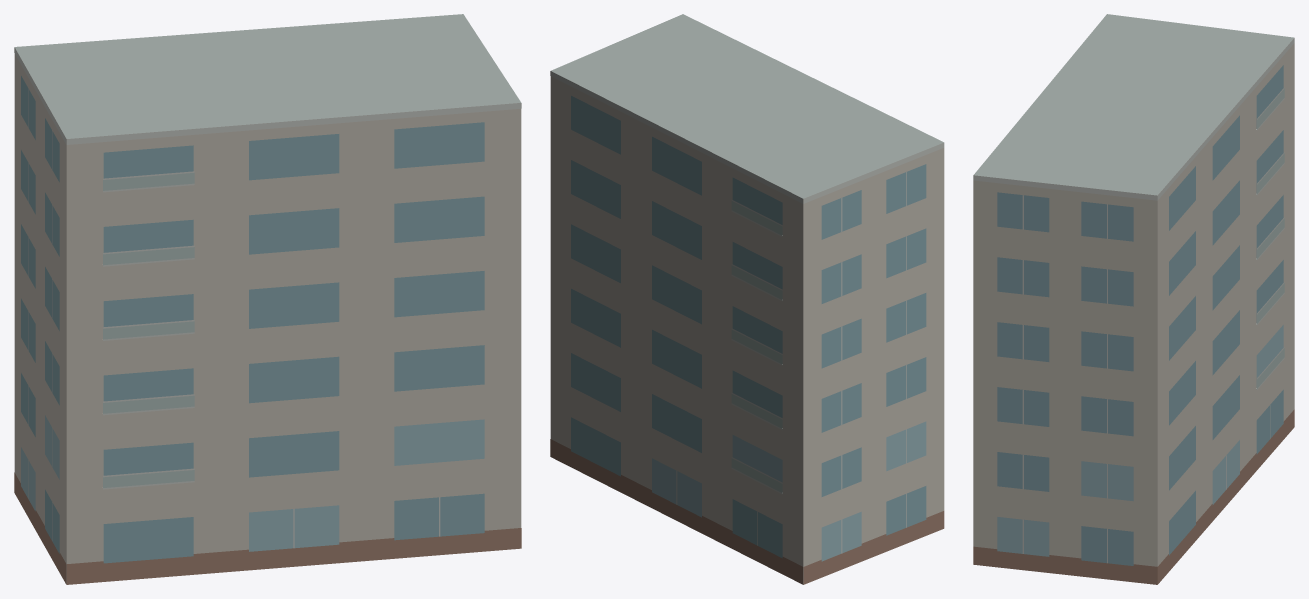
File: survey-upis-32872752.glb
The picture shows the model from 3 angles, left to right: view 1: azimuth 30°, elevation 25°; view 2: azimuth 150°, elevation 25°; view 3: azimuth 270°, elevation 25°; orthographic projection. The views are drawn at different scales.
Parts seen in each view (by area): view 1: survey-upis-32872752.tmp; view 2: survey-upis-32872752.tmp; view 3: survey-upis-32872752.tmp.
Boxes of the visible parts, bbox=[...] form: survey-upis-32872752.tmp: bbox=[14, 14, 521, 584]; survey-upis-32872752.tmp: bbox=[550, 14, 944, 584]; survey-upis-32872752.tmp: bbox=[973, 14, 1294, 584].
Size of the model in its own units: 18.3 by 18.3 by 13.7.
